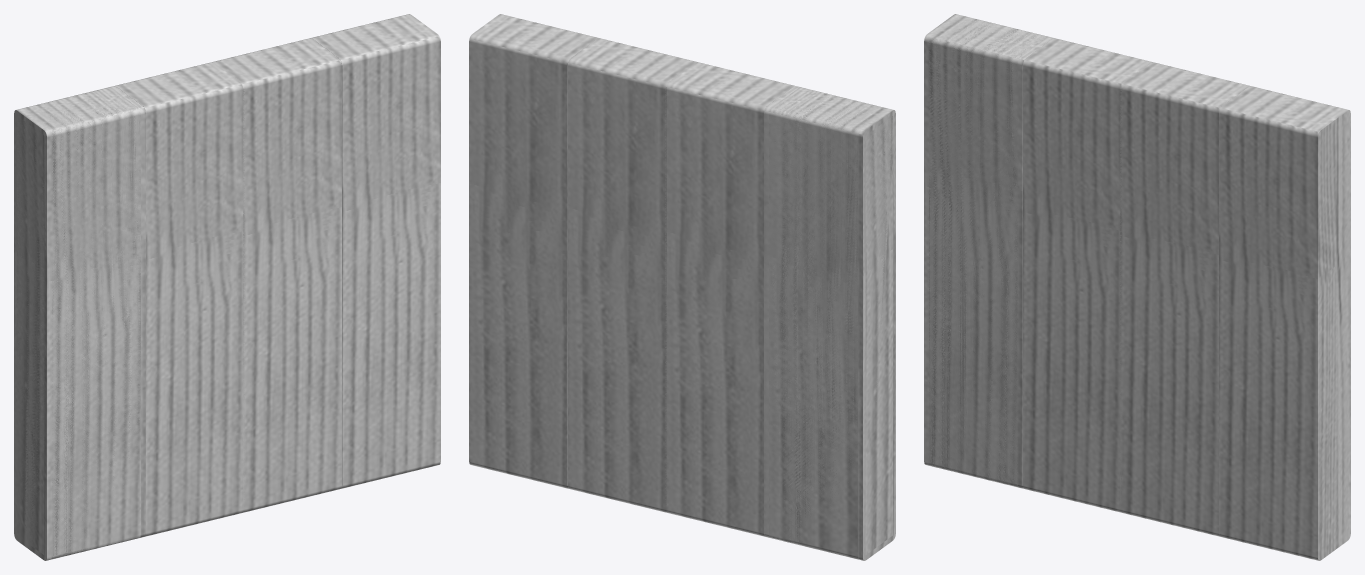
File: House_Wall_Clg.fbx
3 renders of one model, left to right at view 1: azimuth 30°, elevation 25°; view 2: azimuth 150°, elevation 25°; view 3: azimuth 330°, elevation 25°, orthographic.
Visible parts, largest first — view 1: polySurface95; view 2: polySurface95; view 3: polySurface95.
Part boxes in pixels (left/top/right/bottom): polySurface95: left=14, top=14, right=440, bottom=560; polySurface95: left=469, top=14, right=895, bottom=560; polySurface95: left=924, top=14, right=1350, bottom=560.
Size of the model in its own units: 19.65 by 20.51 by 2.86.
